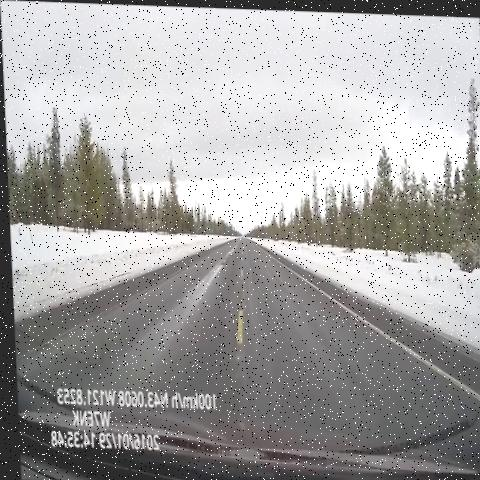pothole: (214, 248, 234, 272)
